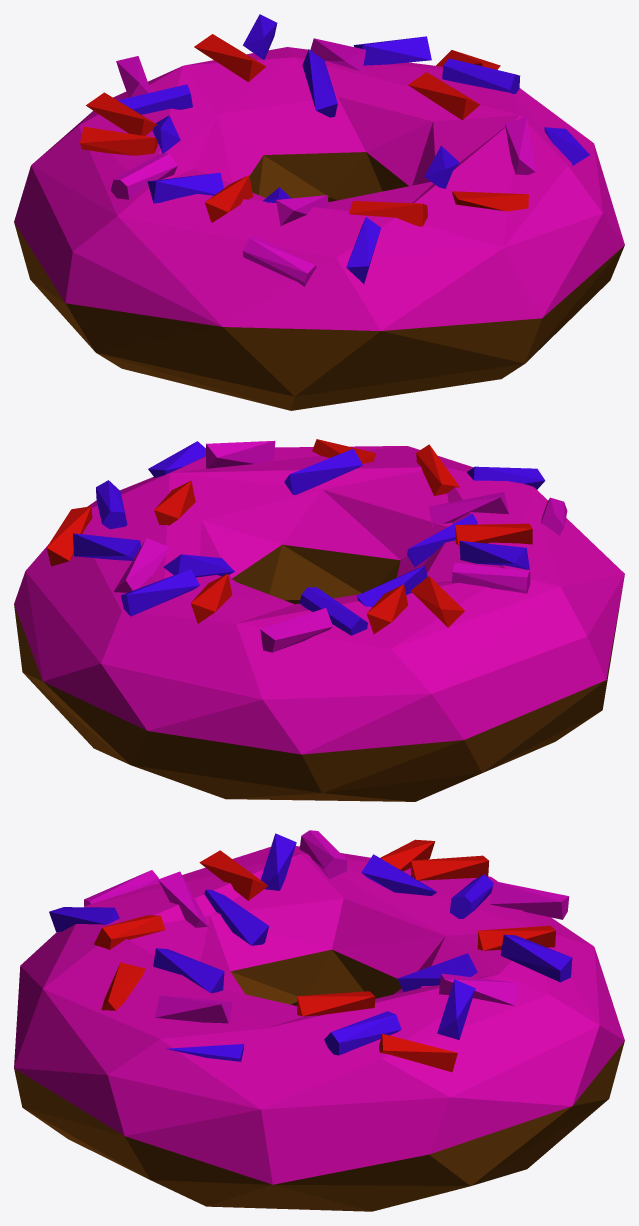
The model's file is ak_donut.fbx.
3 renders of one model, top to bottom at view 1: azimuth 30°, elevation 25°; view 2: azimuth 150°, elevation 25°; view 3: azimuth 270°, elevation 25°, orthographic.
Visible parts, largest first — view 1: Cylinder.002; view 2: Cylinder.002; view 3: Cylinder.002.
Part boxes in pixels (x1=…): Cylinder.002: x1=14, y1=14, x2=624, y2=410; Cylinder.002: x1=14, y1=439, x2=624, y2=801; Cylinder.002: x1=14, y1=830, x2=624, y2=1211.
Size of the model in its own units: 132 by 47.91 by 130.
